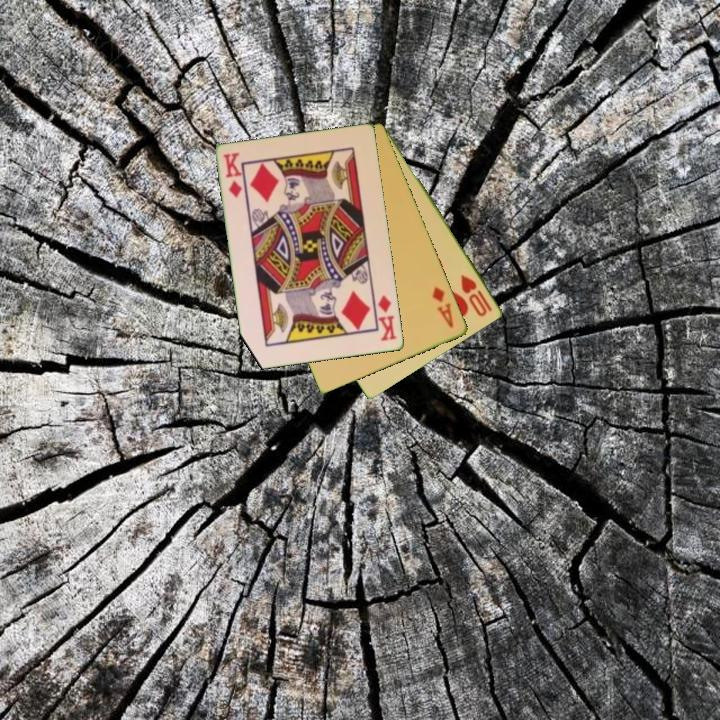10h: (457, 271, 496, 320)
Ad: (429, 283, 457, 331)
Kd: (371, 290, 400, 344), (220, 149, 245, 201)
